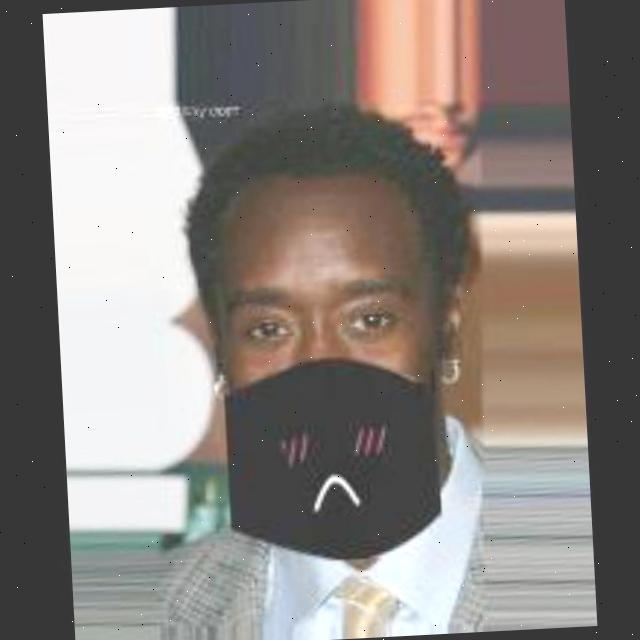suspicion: (158, 99, 518, 565)
